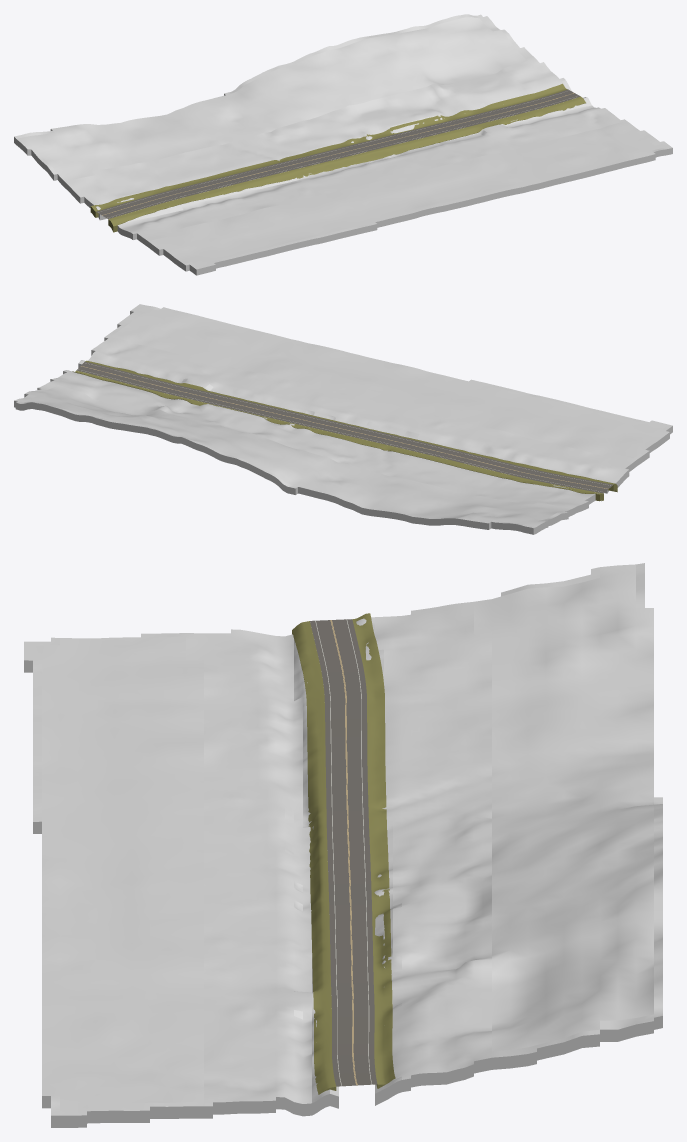
Rendered from conz_134.glb.
3 renders of one model, top to bottom at view 1: azimuth 30°, elevation 25°; view 2: azimuth 150°, elevation 25°; view 3: azimuth 270°, elevation 25°, orthographic. The views are drawn at different scales.
Visible parts, largest first — view 1: terrain134, road134, verge134L, verge134R, paint_yellow134; view 2: terrain134, road134, verge134R, verge134L, paint_yellow134, paint_white134; view 3: terrain134, road134, verge134L, verge134R, paint_white134, paint_yellow134.
Part boxes in pixels (left/top/right/bottom): terrain134: left=14, top=14, right=672, bottom=275; road134: left=96, top=89, right=580, bottom=218; verge134L: left=108, top=96, right=585, bottom=232; verge134R: left=90, top=83, right=567, bottom=217; paint_yellow134: left=102, top=93, right=573, bottom=215; terrain134: left=14, top=304, right=672, bottom=534; road134: left=76, top=362, right=612, bottom=493; verge134R: left=72, top=370, right=603, bottom=501; verge134L: left=85, top=360, right=617, bottom=492; paint_yellow134: left=81, top=366, right=608, bottom=489; paint_white134: left=78, top=363, right=610, bottom=491; terrain134: left=24, top=563, right=662, bottom=1127; road134: left=310, top=619, right=377, bottom=1086; verge134L: left=292, top=621, right=336, bottom=1094; verge134R: left=352, top=613, right=395, bottom=1088; paint_white134: left=315, top=619, right=372, bottom=1085; paint_yellow134: left=330, top=620, right=357, bottom=1085.
Bounding box in the file's own units: 262 × 22.8 × 142.
